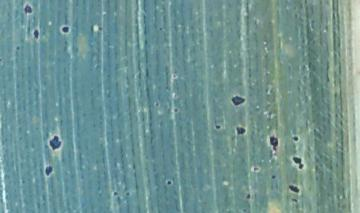tarspot: (49, 134, 62, 151), (231, 93, 246, 106), (268, 136, 280, 151), (292, 155, 303, 170), (23, 4, 33, 15), (289, 185, 301, 194), (61, 24, 71, 34), (45, 165, 52, 177), (236, 128, 246, 136), (33, 28, 39, 40), (244, 193, 253, 200), (290, 197, 299, 204), (166, 178, 173, 186), (170, 72, 177, 80), (15, 45, 22, 52), (252, 166, 260, 172), (154, 99, 160, 107), (112, 190, 119, 196), (125, 190, 131, 197), (271, 174, 277, 181), (292, 135, 298, 142), (173, 108, 180, 114), (98, 25, 104, 32), (215, 125, 222, 130)
